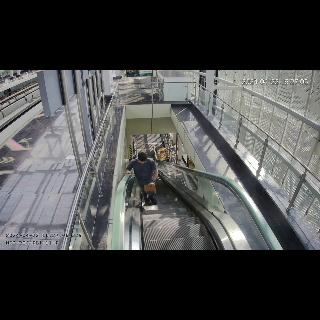normal: (124, 150, 160, 207)
